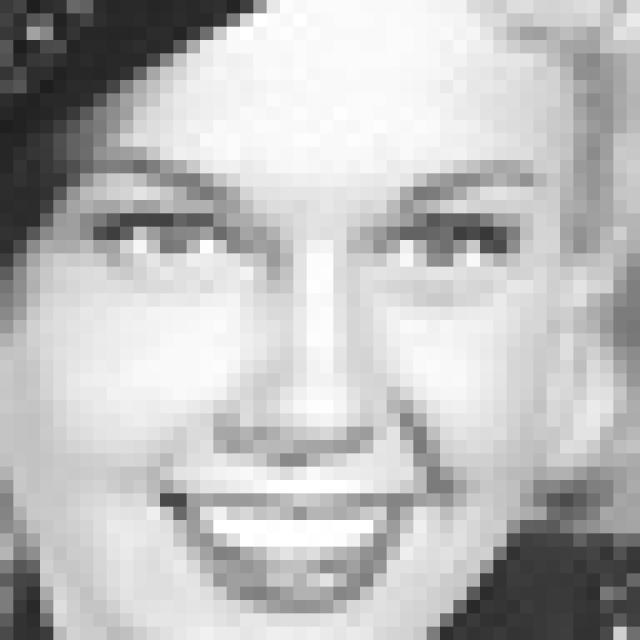happy: (72, 133, 546, 621)
